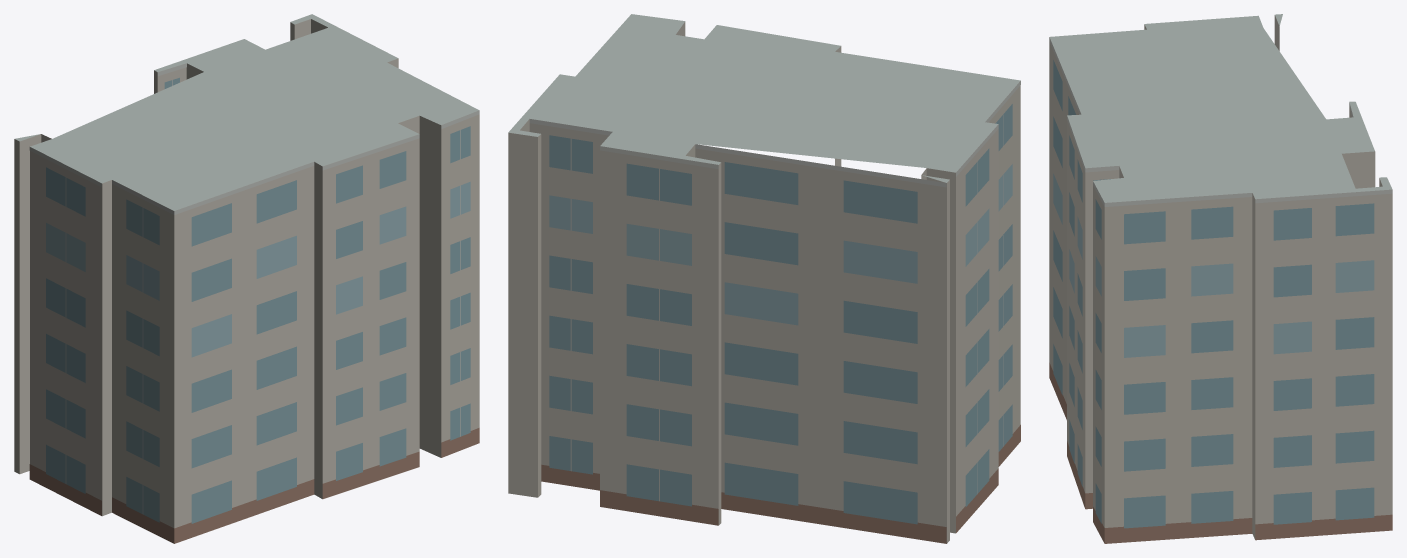
Rendered from survey-upis-32835627.glb.
The picture shows the model from 3 angles, left to right: view 1: azimuth 30°, elevation 25°; view 2: azimuth 150°, elevation 25°; view 3: azimuth 270°, elevation 25°; orthographic projection. The views are drawn at different scales.
Parts seen in each view (by area): view 1: survey-upis-32835627.tmp; view 2: survey-upis-32835627.tmp; view 3: survey-upis-32835627.tmp.
Boxes of the visible parts, x1,y1,x2,y2 form: survey-upis-32835627.tmp: (14, 14, 479, 543); survey-upis-32835627.tmp: (508, 14, 1020, 543); survey-upis-32835627.tmp: (1049, 14, 1392, 543).
Bounding box in the file's own units: 23.84 × 20.05 × 18.3.
